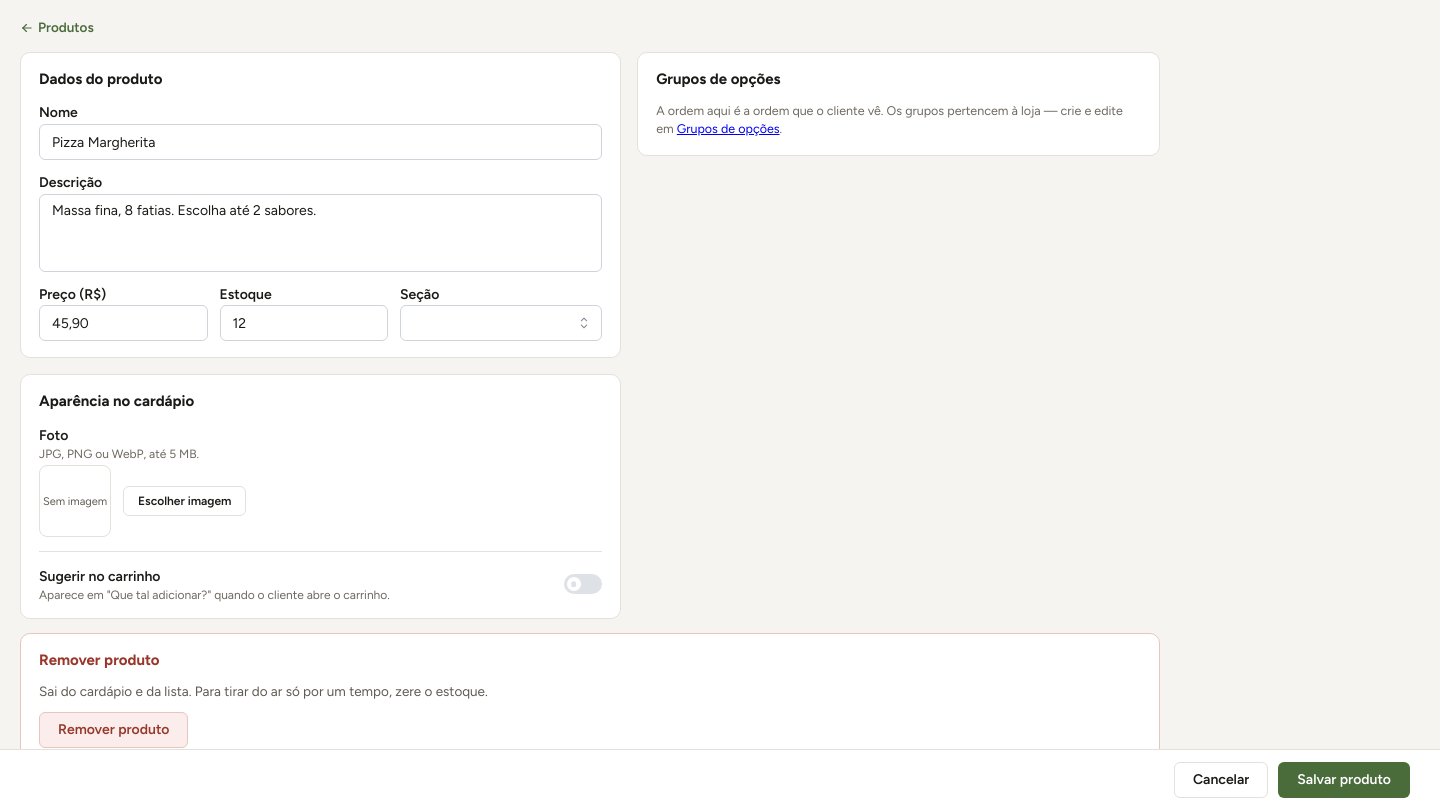
Scenario: remover produto › 'Voltar' não remove nada
What coordinates should you click on to do the following:
click the button "Remover produto"
I would click on:
 (114, 730)
Its box is top-left (39, 712), bottom-right (188, 748).
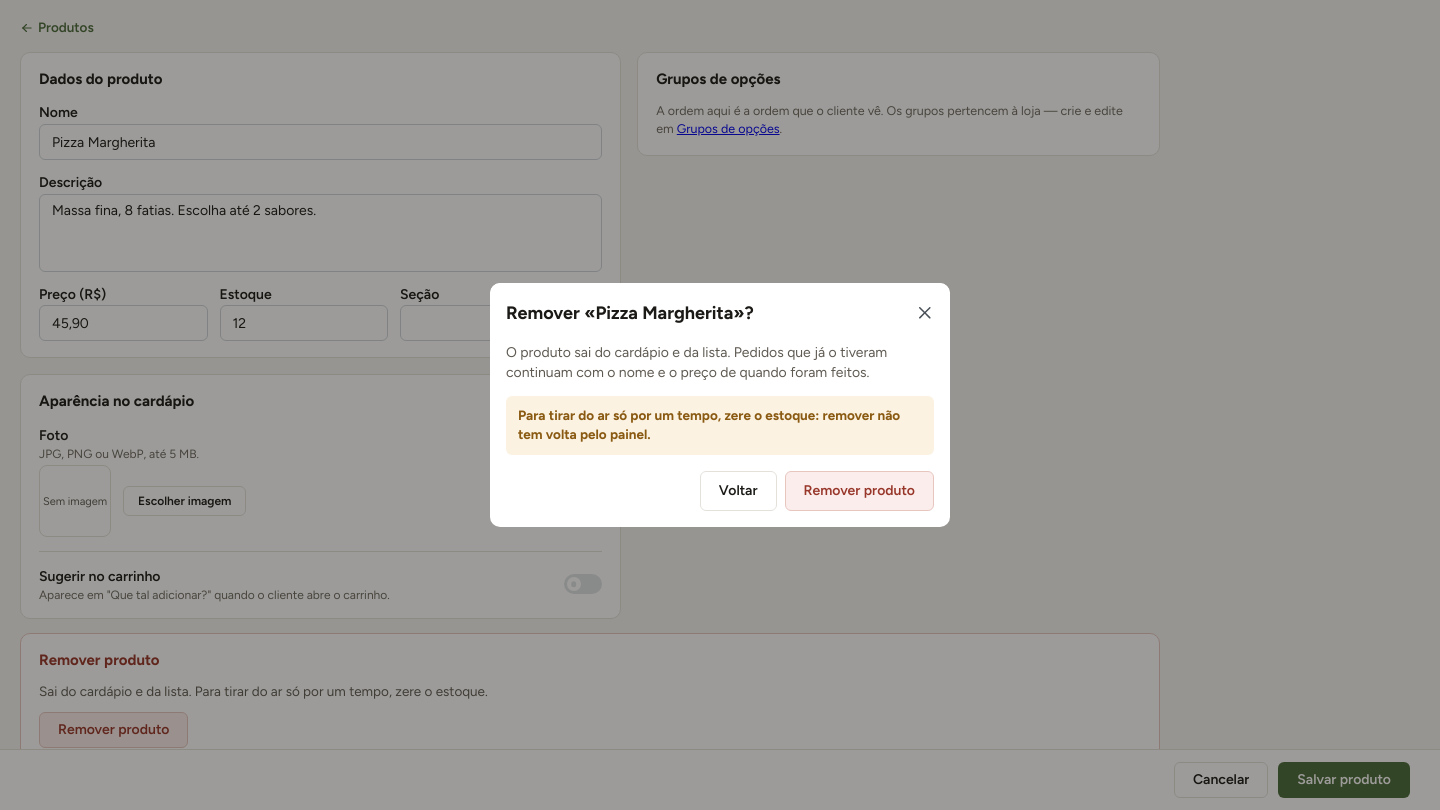
What coordinates should you click on to do the following:
click the button "Voltar"
I would click on:
 (738, 491)
Its box is top-left (700, 471), bottom-right (777, 511).
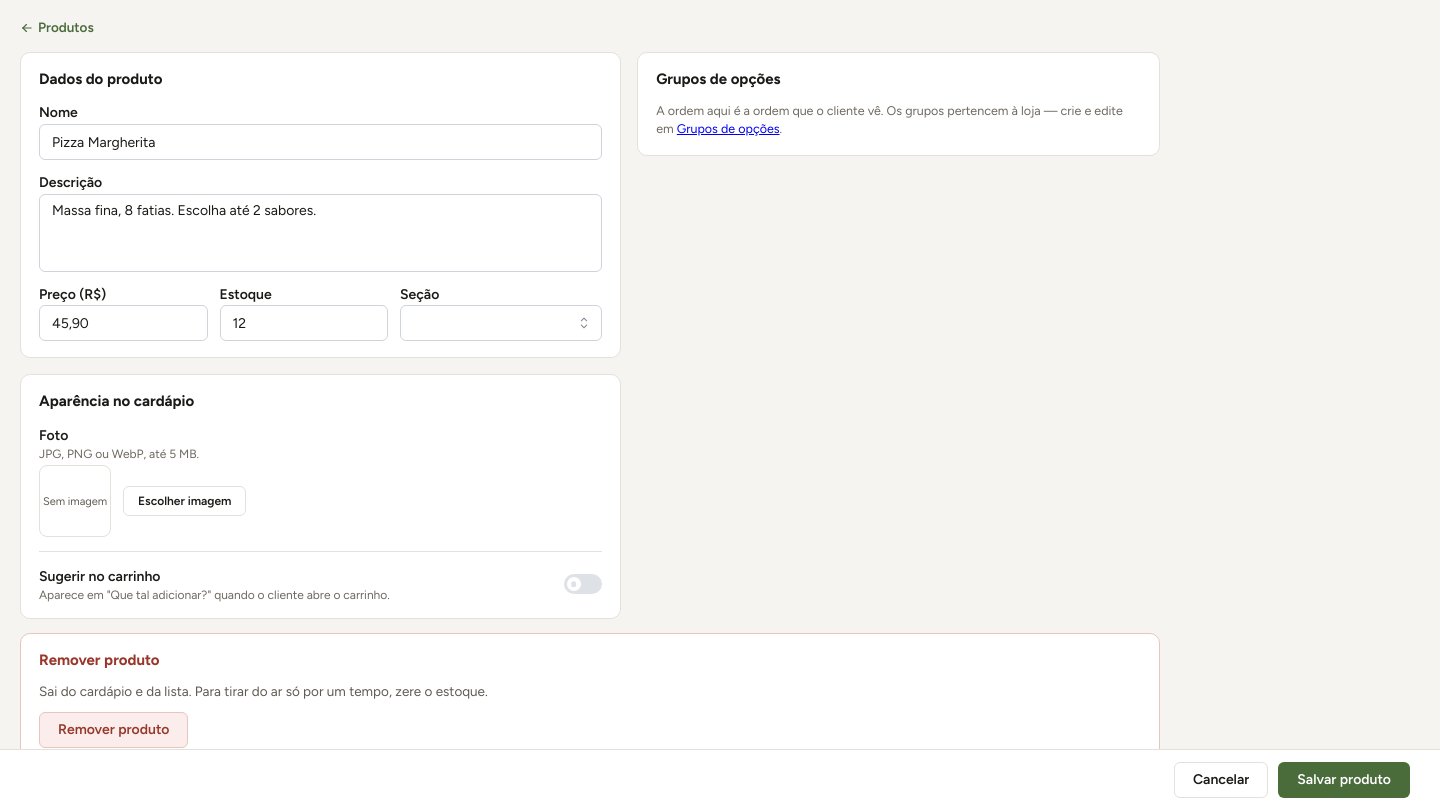
expect the dialog is gone: met
